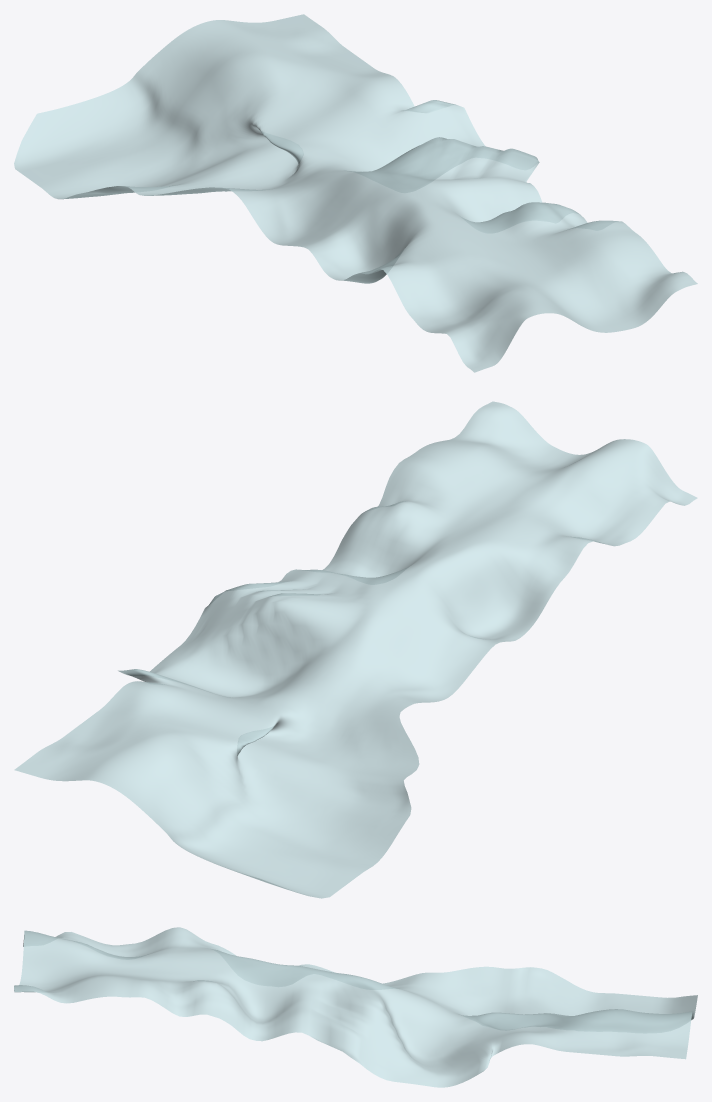
Rendered from lepel.gltf.
The picture shows the model from 3 angles, top to bottom: view 1: azimuth 30°, elevation 25°; view 2: azimuth 150°, elevation 25°; view 3: azimuth 270°, elevation 25°; orthographic projection. The views are drawn at different scales.
Parts seen in each view (by area): view 1: Plane; view 2: Plane; view 3: Plane.
Boxes of the visible parts, x1,y1,x2,y2 form: Plane: (14, 14, 697, 372); Plane: (14, 401, 697, 898); Plane: (14, 927, 697, 1087).
Bounding box in the file's own units: 7.44 × 2.82 × 16.96.
